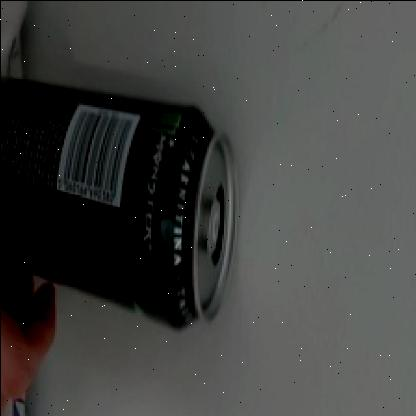Can: (0, 77, 237, 329), (415, 415, 416, 416)
